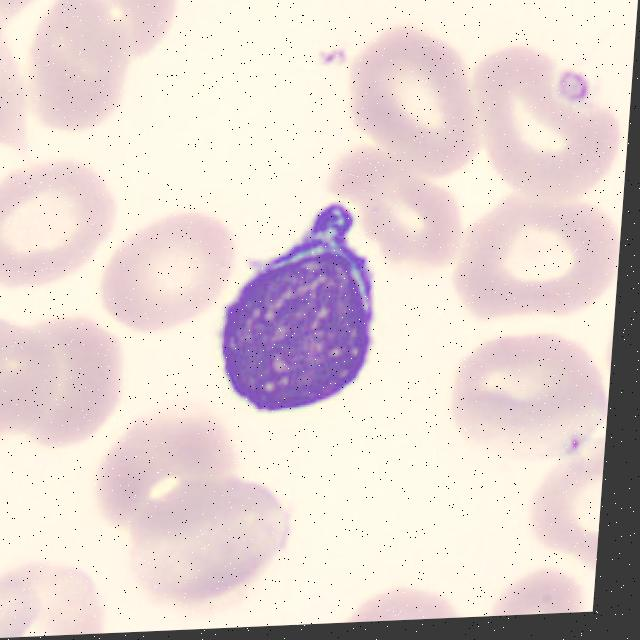lymphocyte: (209, 203, 399, 440)
platelets: (545, 66, 600, 107), (554, 425, 592, 470), (314, 37, 354, 71)
rbc: (459, 25, 636, 206), (446, 177, 625, 342), (437, 324, 614, 476), (343, 17, 493, 183), (121, 473, 305, 604), (321, 138, 470, 275), (100, 397, 239, 543), (2, 311, 132, 454), (0, 152, 123, 300), (104, 208, 240, 336), (29, 0, 133, 143), (525, 449, 605, 580), (0, 310, 72, 452), (0, 558, 111, 640), (339, 565, 474, 623), (65, 0, 178, 69), (488, 563, 596, 616)
